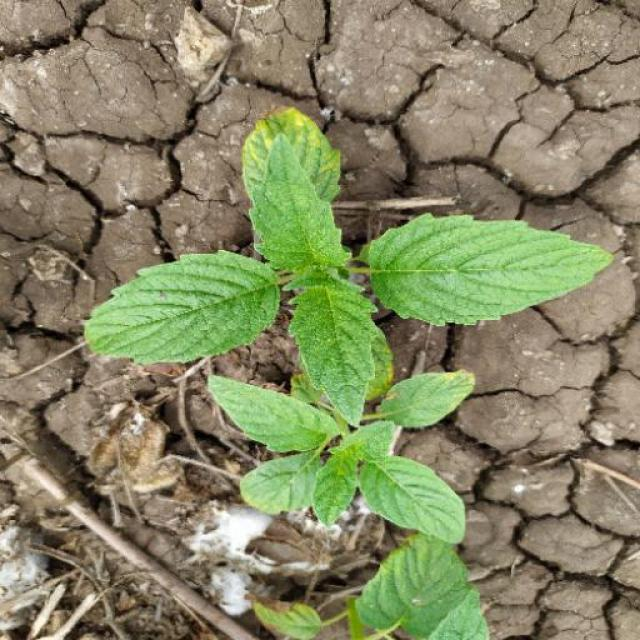crop: (61, 122, 616, 394), (176, 371, 532, 544)
